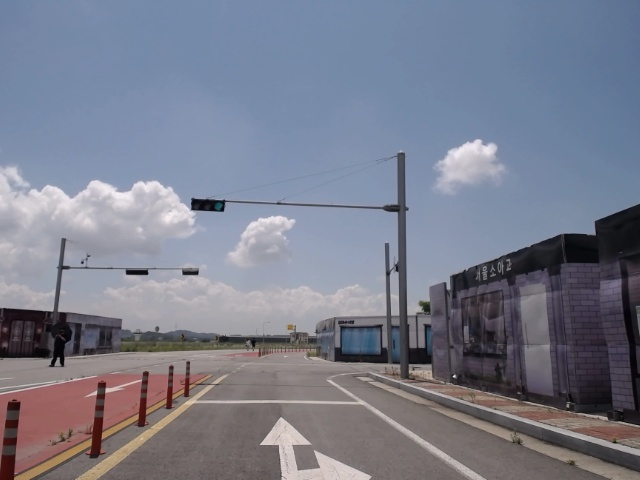green_3: (191, 199, 224, 211)
